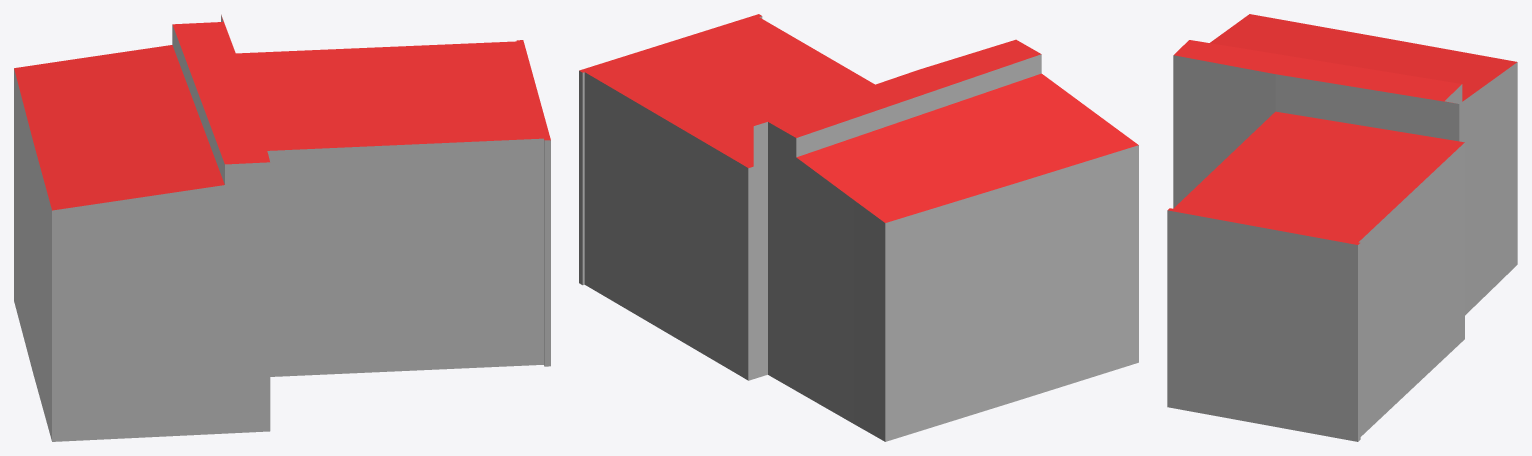
File: DEBY_LOD2_4907128.dae
The picture shows the model from 3 angles, left to right: view 1: azimuth 30°, elevation 25°; view 2: azimuth 150°, elevation 25°; view 3: azimuth 270°, elevation 25°; orthographic projection. The views are drawn at different scales.
Bounding box in the file's own units: 27.17 × 17.75 × 13.1.
